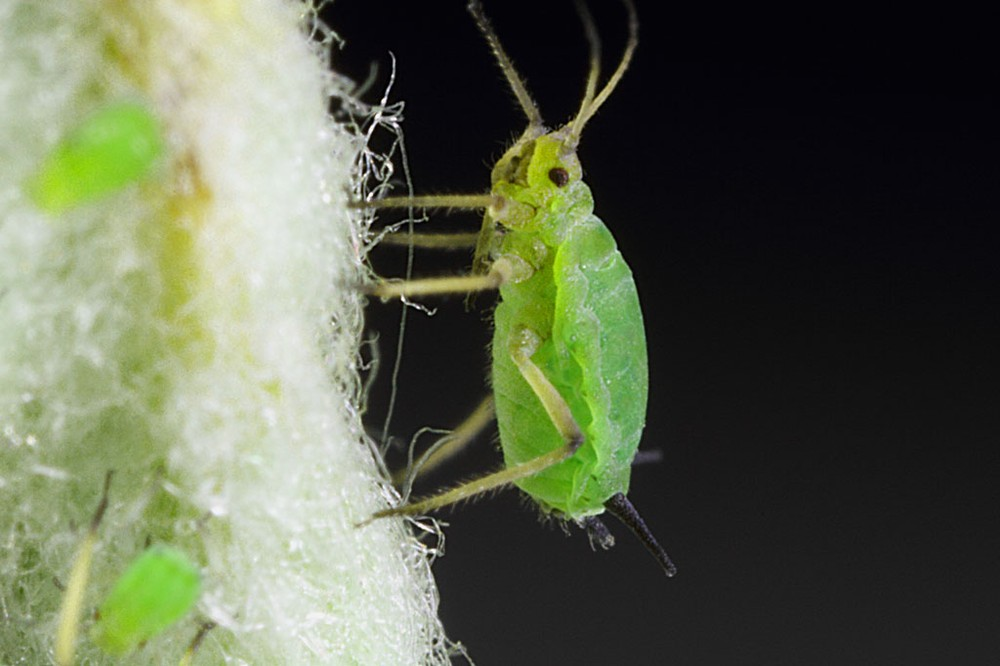Pulgon: (373, 2, 722, 603)
